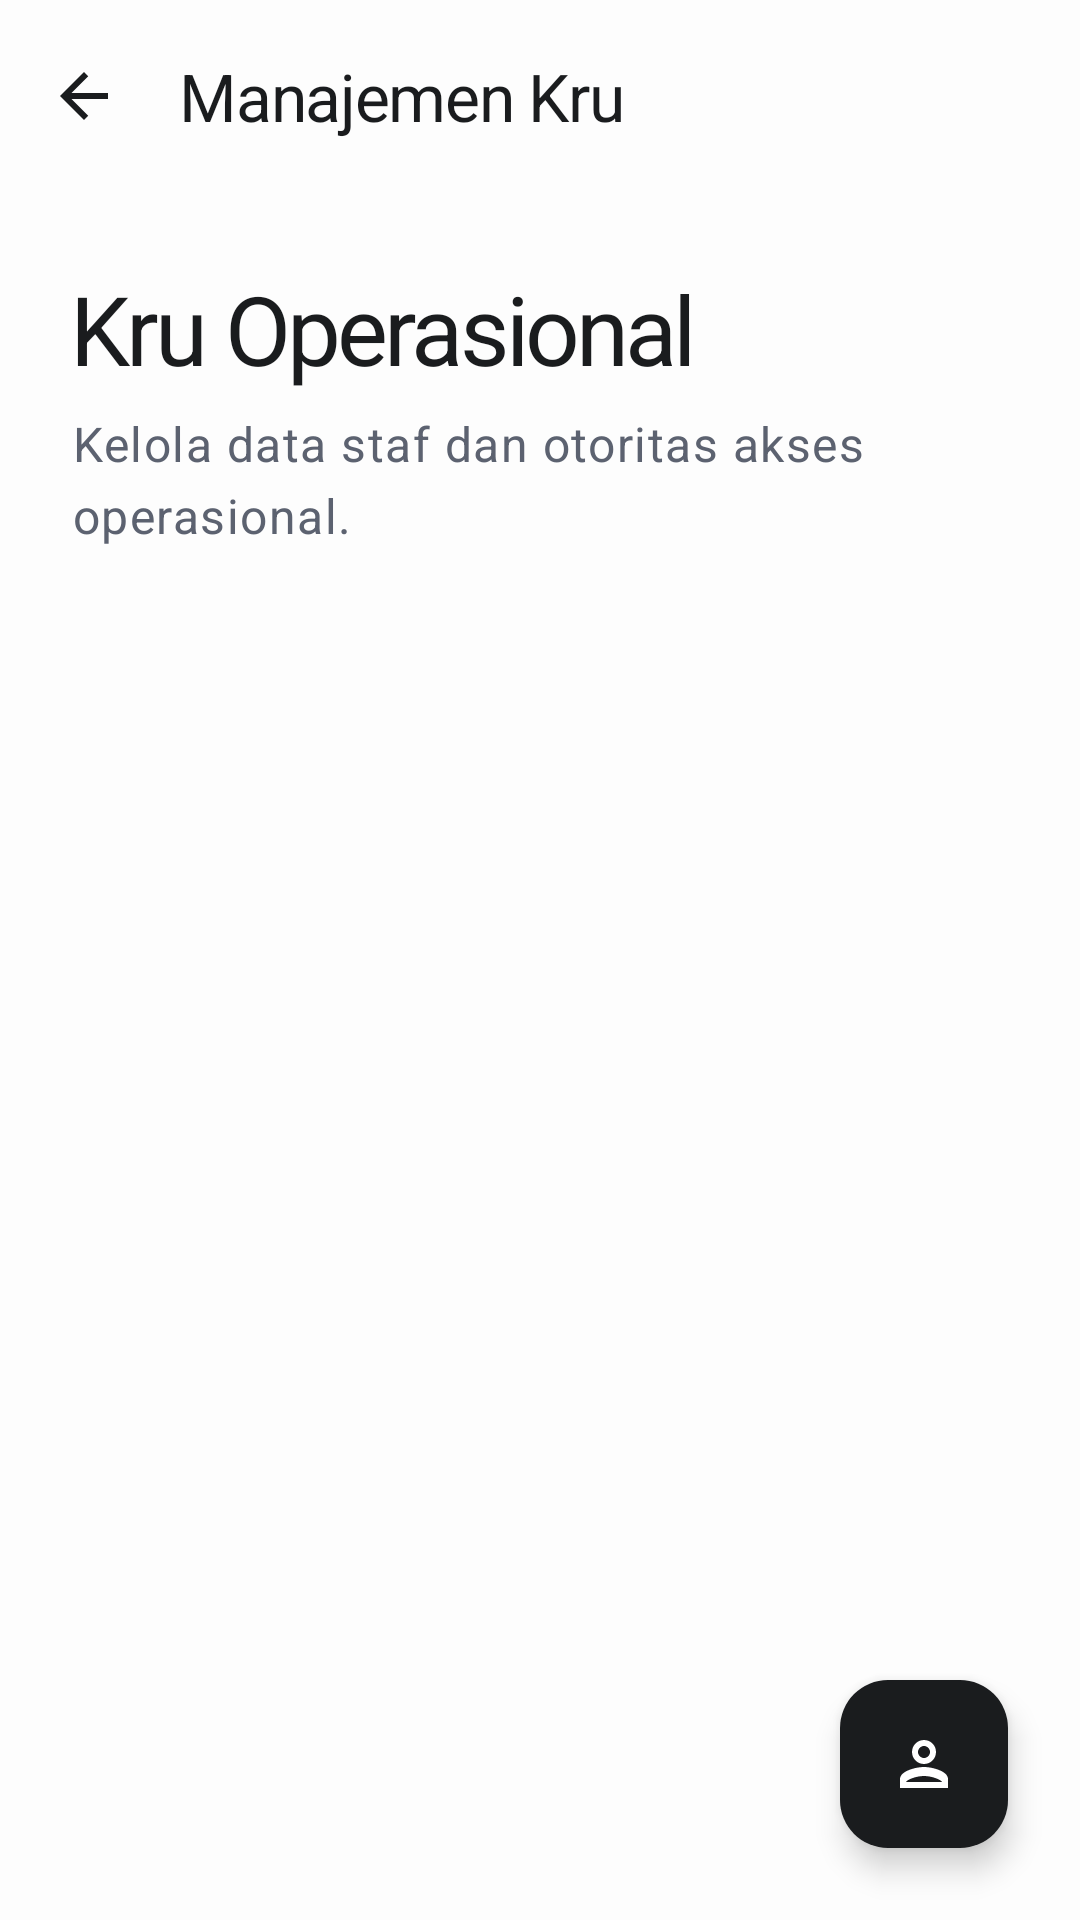

Where to tap for icons on this 1080*1920 app screen, as [x,y]:
person: [924,1764]
